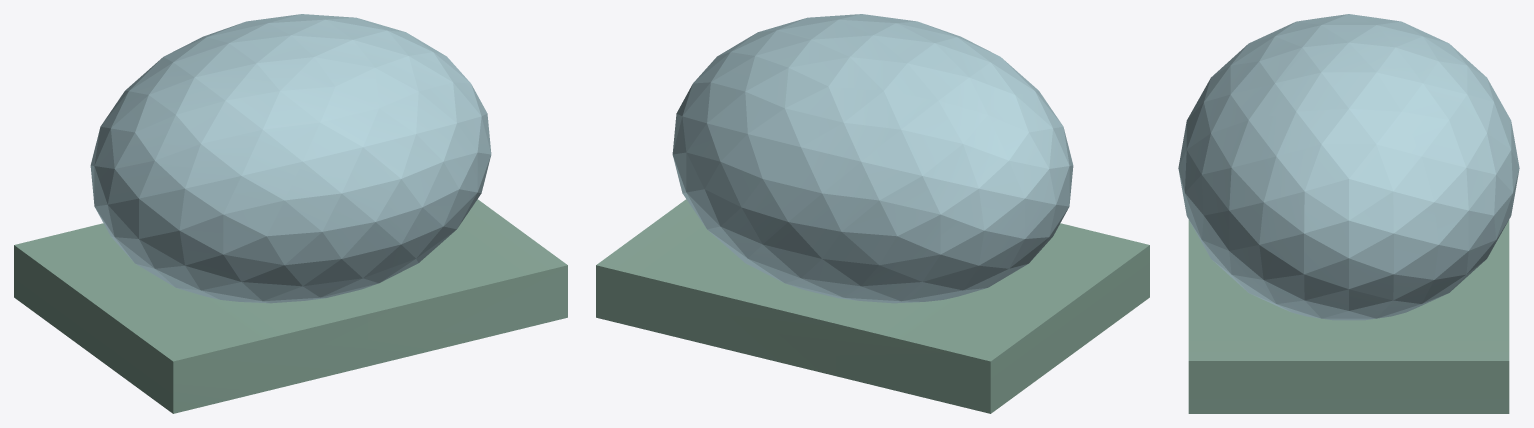
The model's file is observatory-06.glb.
3 renders of one model, left to right at view 1: azimuth 30°, elevation 25°; view 2: azimuth 150°, elevation 25°; view 3: azimuth 270°, elevation 25°, orthographic.
Parts seen in each view (by area): view 1: world; view 2: world; view 3: world.
Boxes of the visible parts, x1,y1,x2,y2 form: world: (14, 14, 567, 413); world: (596, 14, 1149, 413); world: (1178, 14, 1519, 413).
Size of the model in its own units: 1.58 by 1.04 by 1.17.
